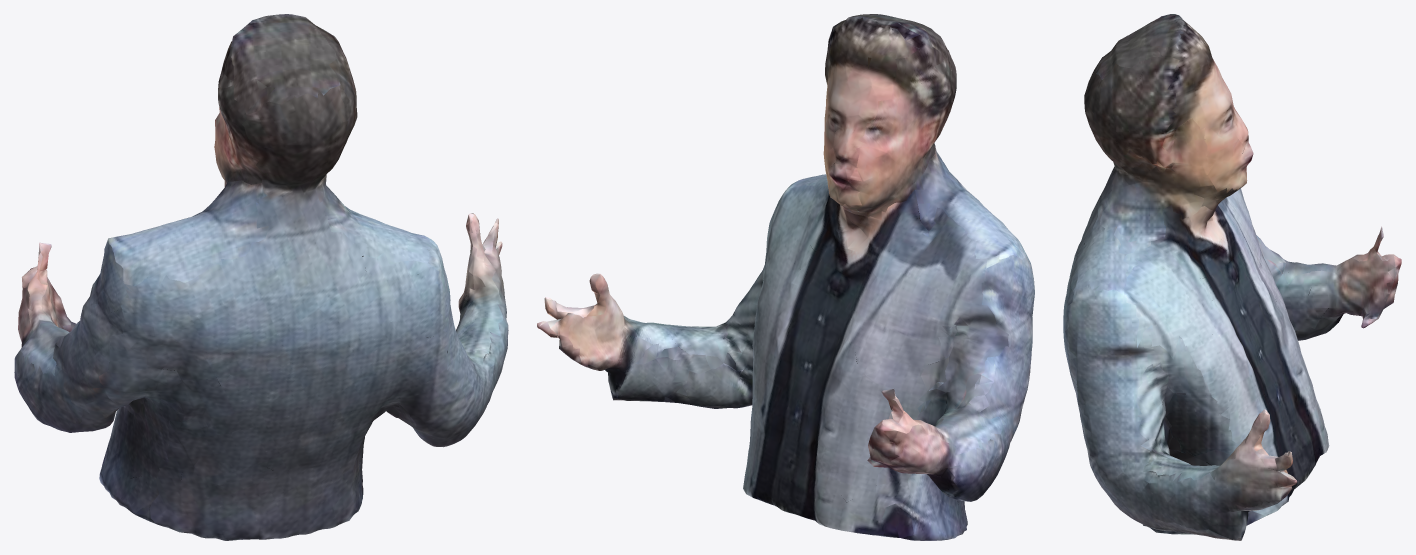
3 renders of one model, left to right at view 1: azimuth 30°, elevation 25°; view 2: azimuth 150°, elevation 25°; view 3: azimuth 270°, elevation 25°, orthographic. The views are drawn at different scales.
Parts seen in each view (by area): view 1: world; view 2: world; view 3: world.
Boxes of the visible parts, bbox=[...] form: world: bbox=[14, 14, 508, 540]; world: bbox=[537, 14, 1034, 540]; world: bbox=[1063, 14, 1401, 540].
Size of the model in its own units: 0.8703 by 0.89 by 0.5728.
1 material, 1 textured.
